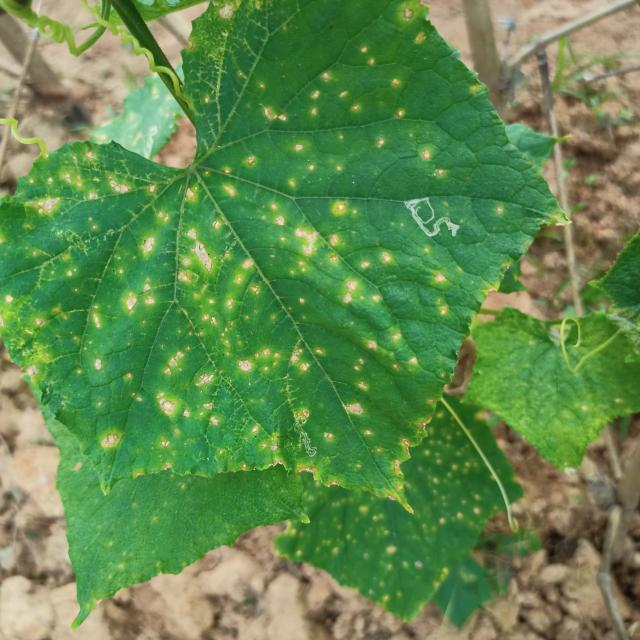disease_cucumber: (28, 29, 508, 480)
